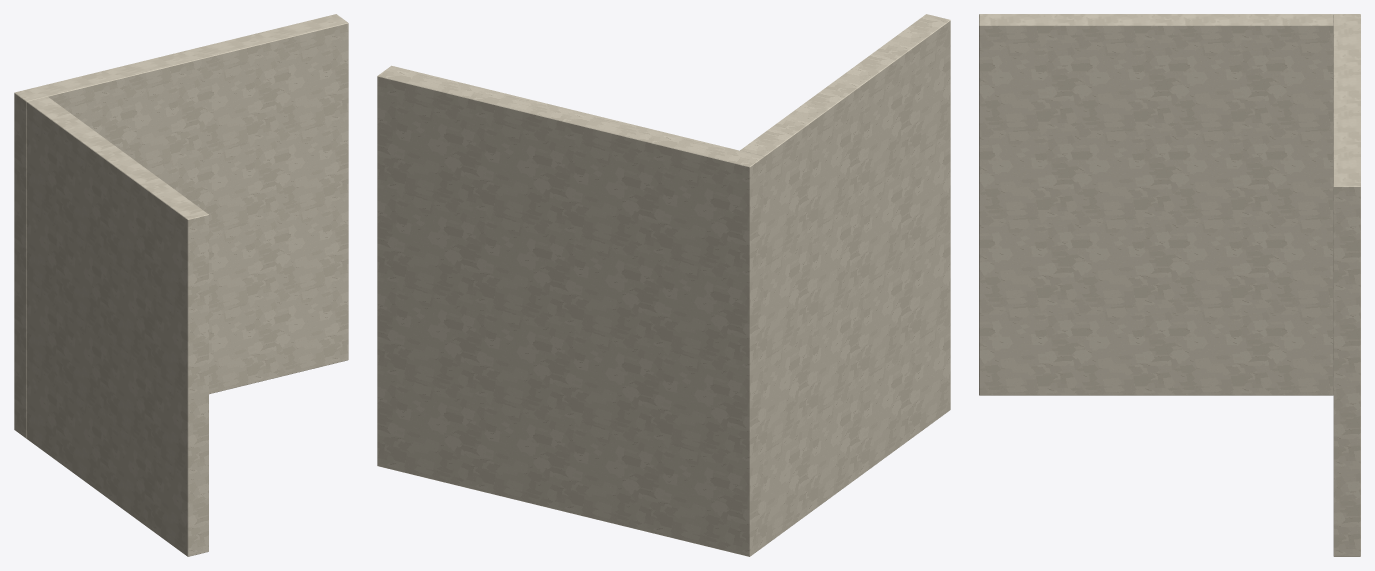
The model's file is MD_5_OuterCorner.fbx.
3 views of the same model, side by side, from view 1: azimuth 30°, elevation 25°; view 2: azimuth 150°, elevation 25°; view 3: azimuth 270°, elevation 25° (orthographic). The views are drawn at different scales.
Parts seen in each view (by area): view 1: MD_5_OuterCorner_corner_front, MD_5_OuterCorner_corner_return; view 2: MD_5_OuterCorner_corner_front, MD_5_OuterCorner_corner_return; view 3: MD_5_OuterCorner_corner_return, MD_5_OuterCorner_corner_front.
Boxes of the visible parts, x1,y1,x2,y2 form: MD_5_OuterCorner_corner_front: (14,14,348,438); MD_5_OuterCorner_corner_return: (26,96,208,556); MD_5_OuterCorner_corner_front: (377,65,763,556); MD_5_OuterCorner_corner_return: (740,14,950,546); MD_5_OuterCorner_corner_return: (979,14,1333,395); MD_5_OuterCorner_corner_front: (1333,14,1360,556).
Size of the model in its own units: 3 by 3 by 2.8.
1 material, 1 textured.
